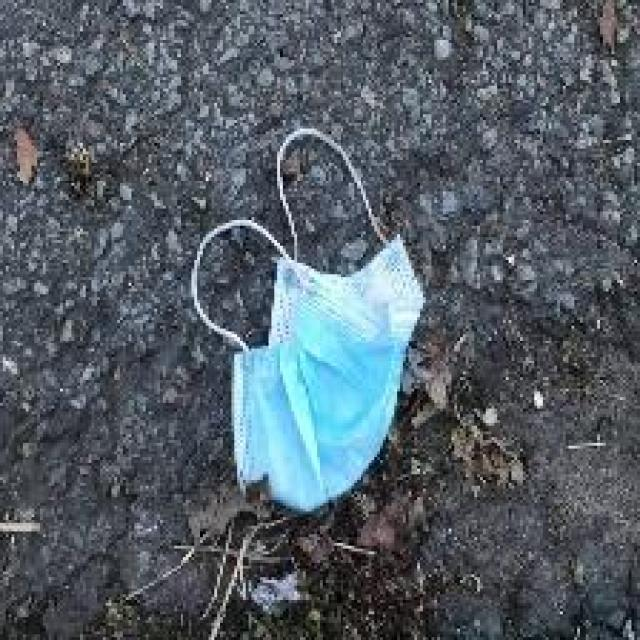Mask: (183, 114, 433, 516)
